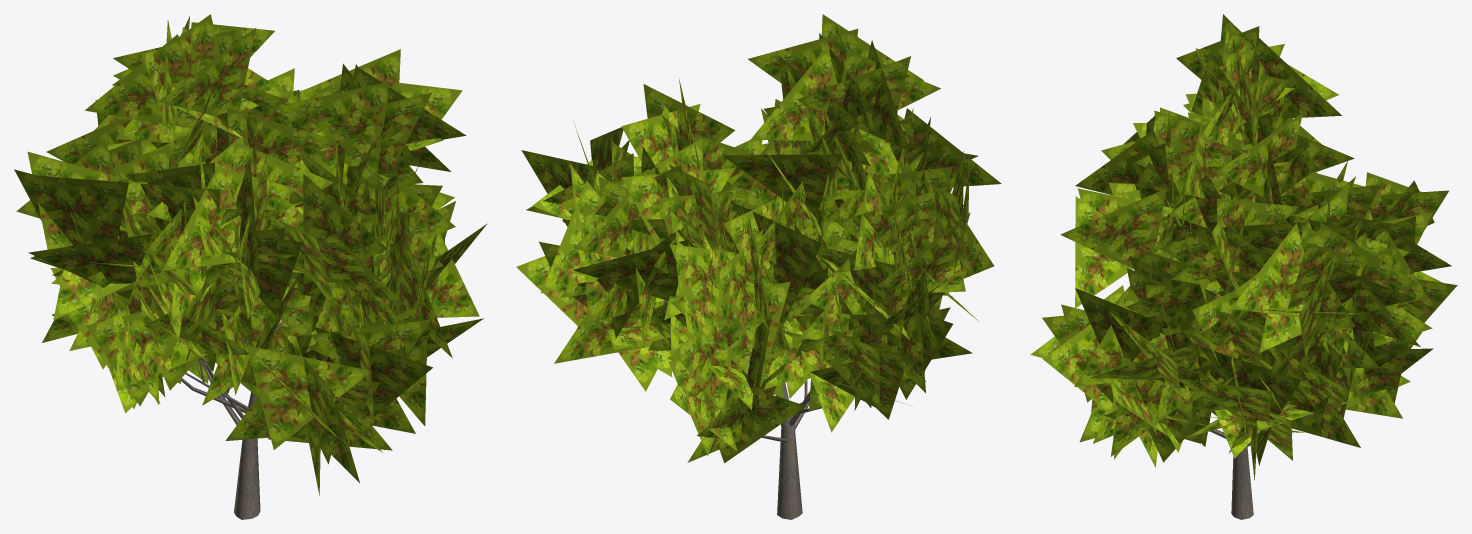
Rendered from Acer_Saccharum_Spring_Young.glb.
3 views of the same model, side by side, from view 1: azimuth 30°, elevation 25°; view 2: azimuth 150°, elevation 25°; view 3: azimuth 270°, elevation 25° (orthographic). The views are drawn at different scales.
Parts seen in each view (by area): view 1: Acer_Saccharum_Spring_Young__LOD3; view 2: Acer_Saccharum_Spring_Young__LOD3; view 3: Acer_Saccharum_Spring_Young__LOD3.
Boxes of the visible parts, box(x1,y1,x2,y2) form: Acer_Saccharum_Spring_Young__LOD3: box(14, 14, 487, 519); Acer_Saccharum_Spring_Young__LOD3: box(516, 14, 1001, 519); Acer_Saccharum_Spring_Young__LOD3: box(1030, 14, 1457, 519).
Bounding box in the file's own units: 7.67 × 8.16 × 6.77.
2 materials, 2 textured.
